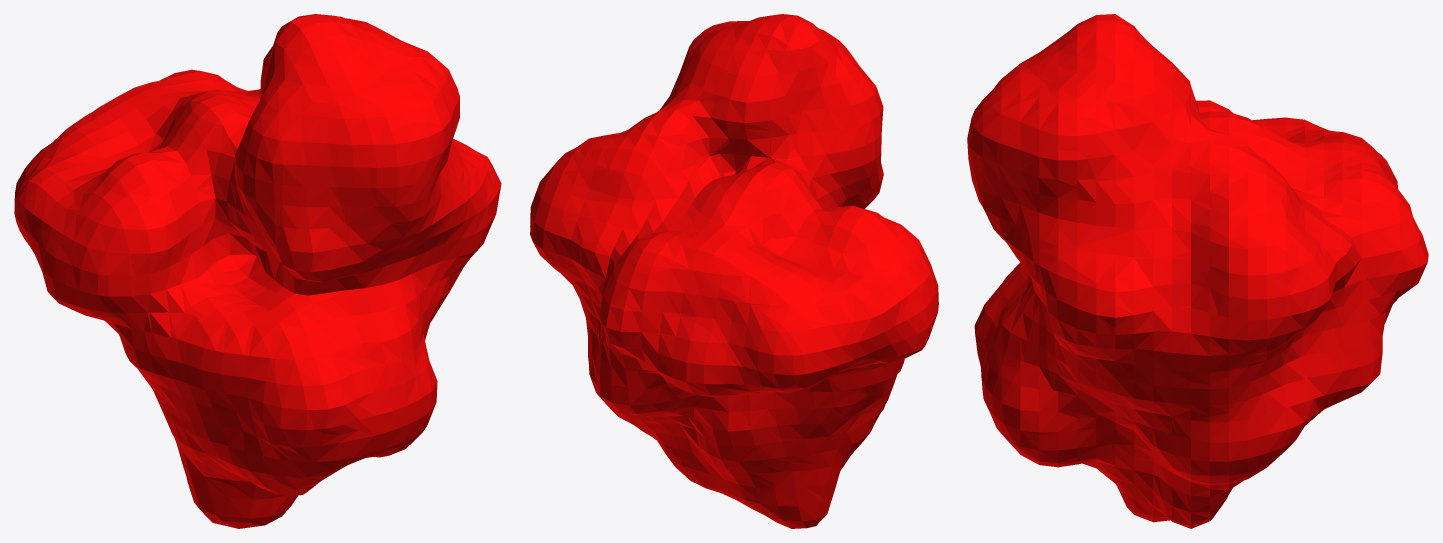
The model's file is purT_coarse.dae.
3 views of the same model, side by side, from view 1: azimuth 30°, elevation 25°; view 2: azimuth 150°, elevation 25°; view 3: azimuth 270°, elevation 25° (orthographic). The views are drawn at different scales.
Visible parts, largest first — view 1: purT; view 2: purT; view 3: purT.
Boxes of the visible parts, x1=… form: purT: x1=14, y1=14, x2=501, y2=528; purT: x1=530, y1=14, x2=938, y2=528; purT: x1=967, y1=14, x2=1428, y2=528.
Bounding box in the file's own units: 57.75 × 70.85 × 57.5.
